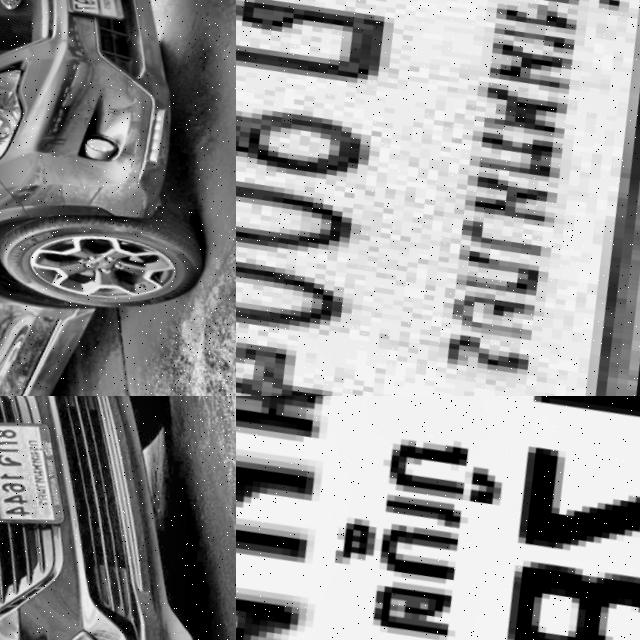license-plate: (236, 0, 640, 396), (236, 396, 640, 640), (0, 410, 83, 543), (50, 0, 131, 28)
